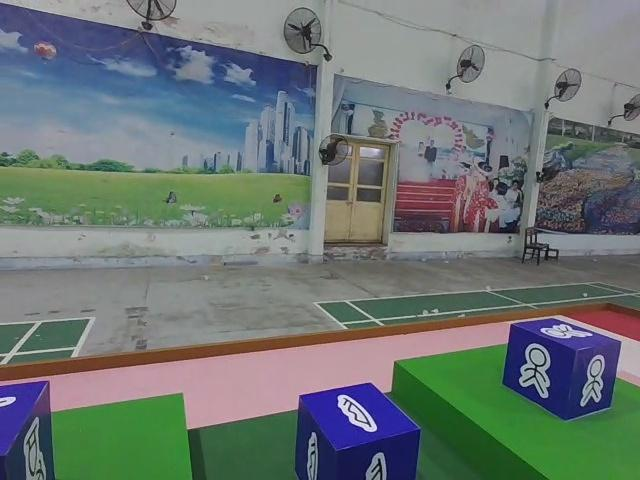R2 Real Blue: (503, 317, 621, 422), (296, 382, 421, 479), (0, 379, 55, 479)
